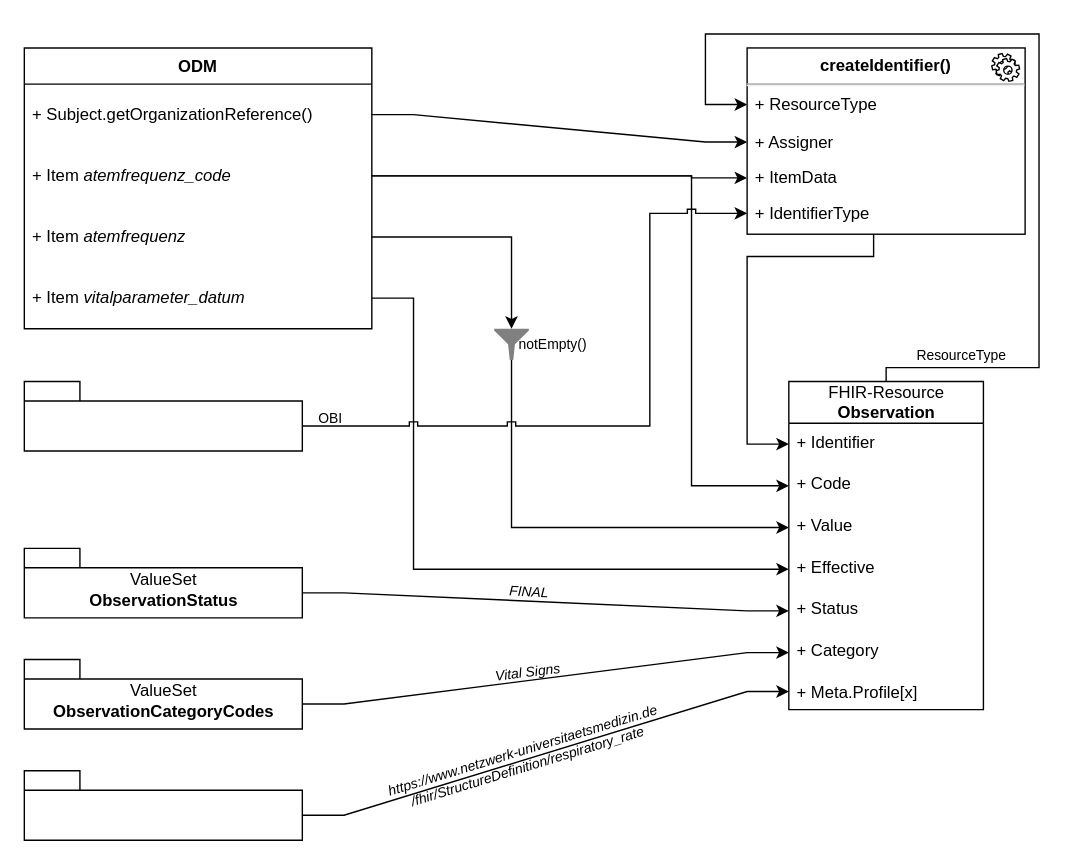
Some shapes in this 1074 by 865 pixel diagram are drawn without their labels. Each missing label, with the box of its shape:
GECCO Profiles: (23, 769, 302, 840)
ValueSet IdentifierTypeCodes: (23, 380, 302, 451)
